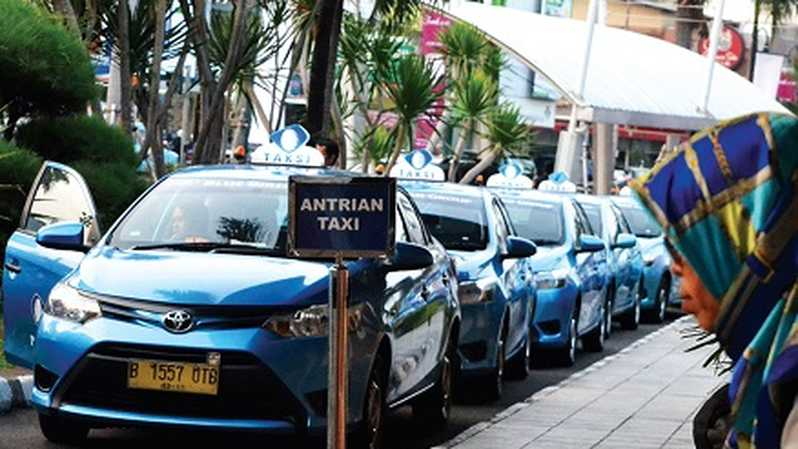plate: (127, 356, 217, 393)
